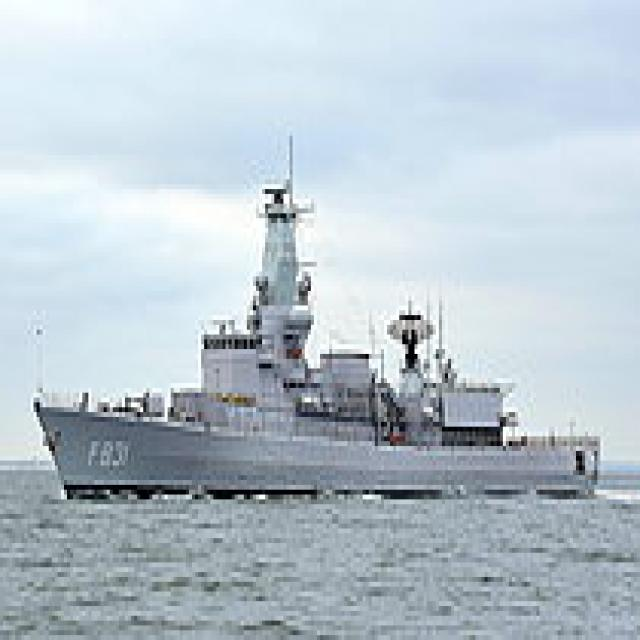Warship: (22, 117, 600, 500)
